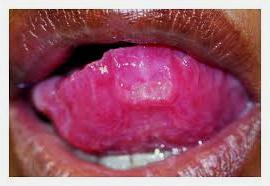Ulcer: (118, 73, 170, 110)
